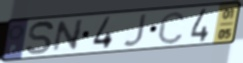4: (91, 15, 115, 51), (189, 7, 211, 44)
C: (156, 10, 187, 46)
J: (122, 12, 149, 48)
N: (50, 18, 86, 55)
S: (25, 20, 56, 56)
